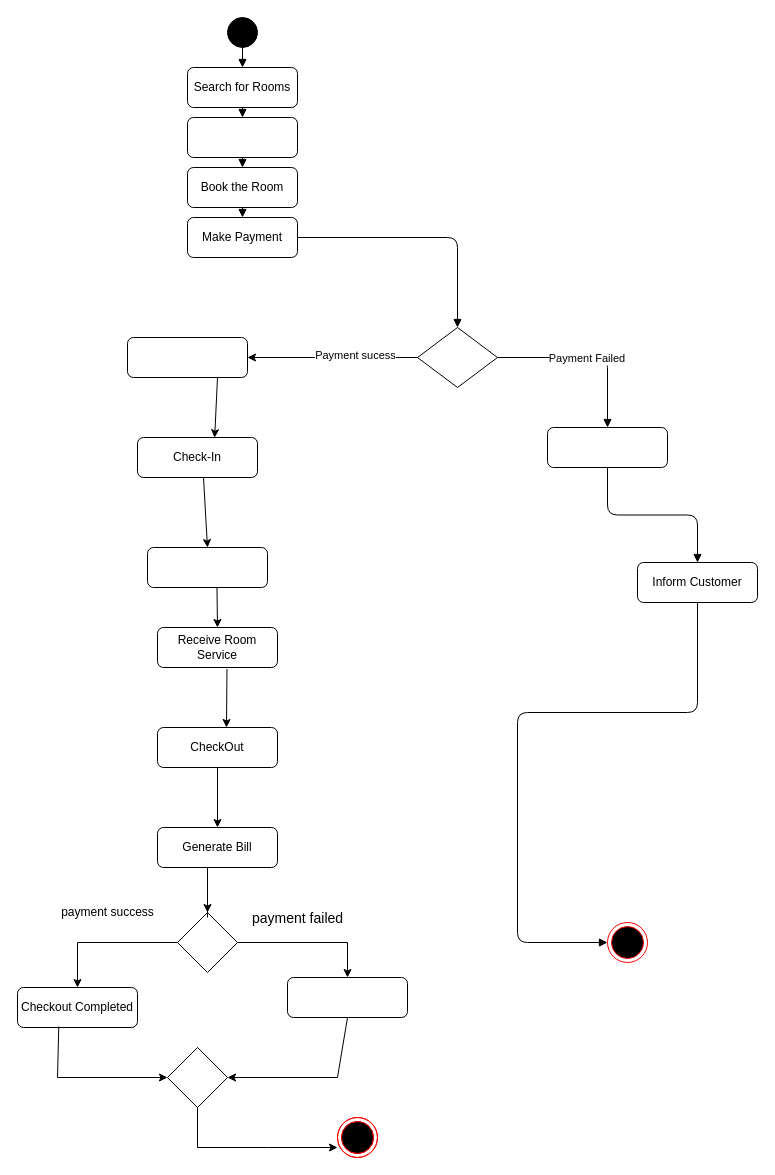
The diagram is 775 pixels wide and 1175 high, and some of its shapes have lost their labels. Each missing label, with the centre of its shape:
"Booking Canceled" belongs at pixel 607 447.
"Receive Confirmation" belongs at pixel 187 357.
"Request Room Service" belongs at pixel 207 567.
"Retry payment" belongs at pixel 347 997.
"Select the Room" belongs at pixel 242 137.
